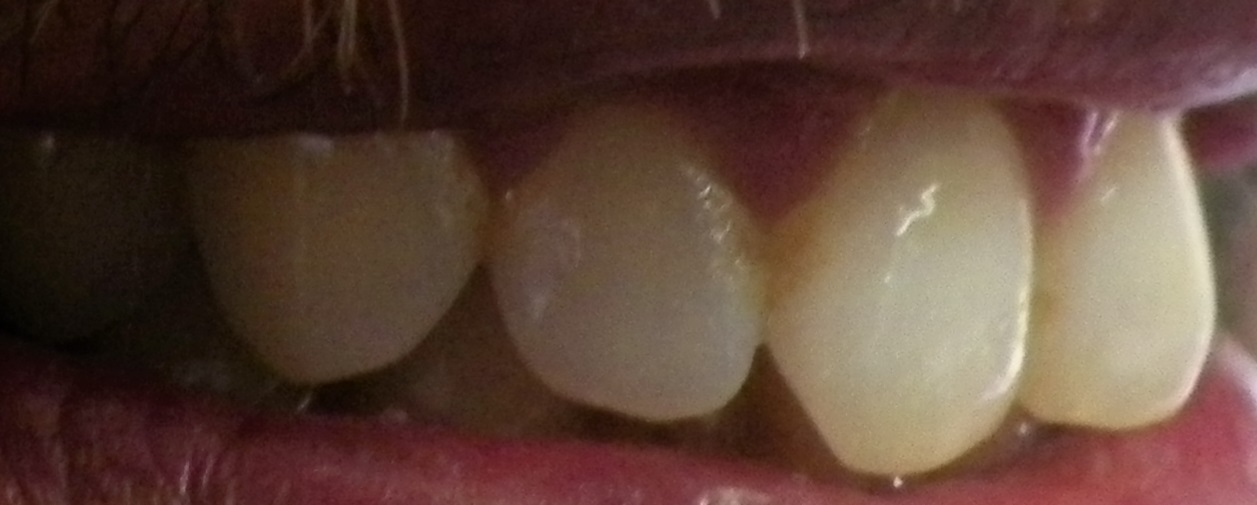boca: (47, 110, 1213, 471)
